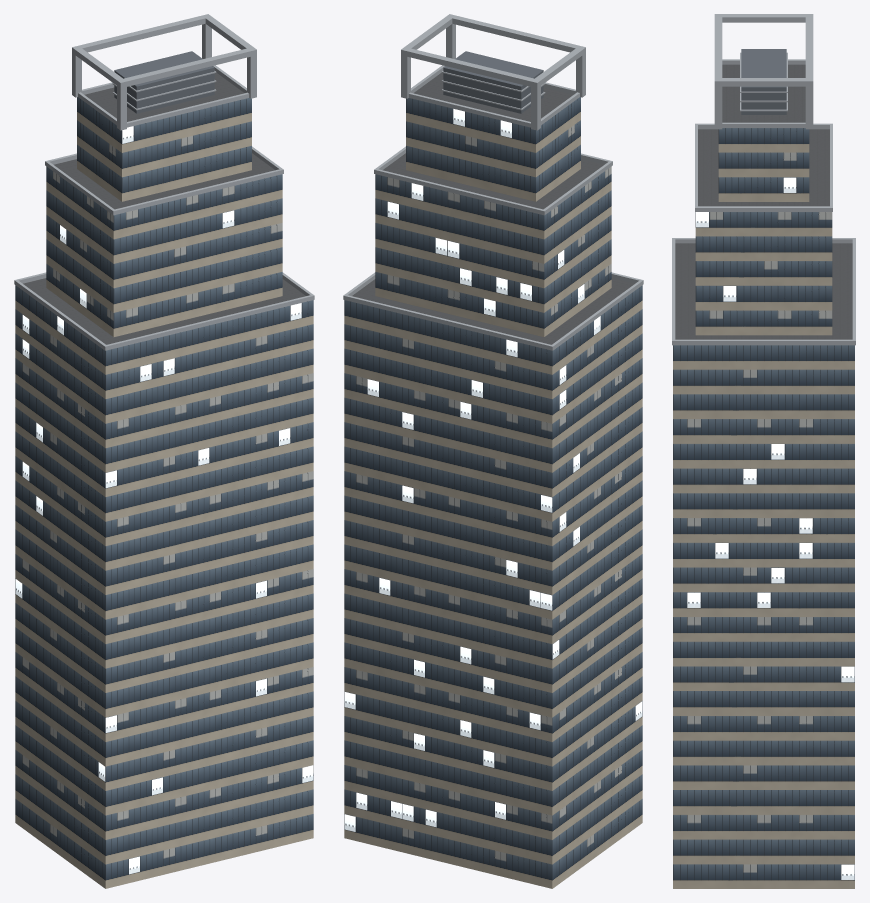
Rendered from Tower2.fbx.
3 renders of one model, left to right at view 1: azimuth 30°, elevation 25°; view 2: azimuth 150°, elevation 25°; view 3: azimuth 270°, elevation 25°, orthographic.
Visible parts, largest first — view 1: Tower2_Mesh; view 2: Tower2_Mesh; view 3: Tower2_Mesh.
Boxes of the visible parts, x1=… form: Tower2_Mesh: x1=14, y1=14, x2=314, y2=888; Tower2_Mesh: x1=343, y1=14, x2=643, y2=888; Tower2_Mesh: x1=672, y1=14, x2=855, y2=888.
Bounding box in the file's own units: 32.24 × 115 × 24.24.
